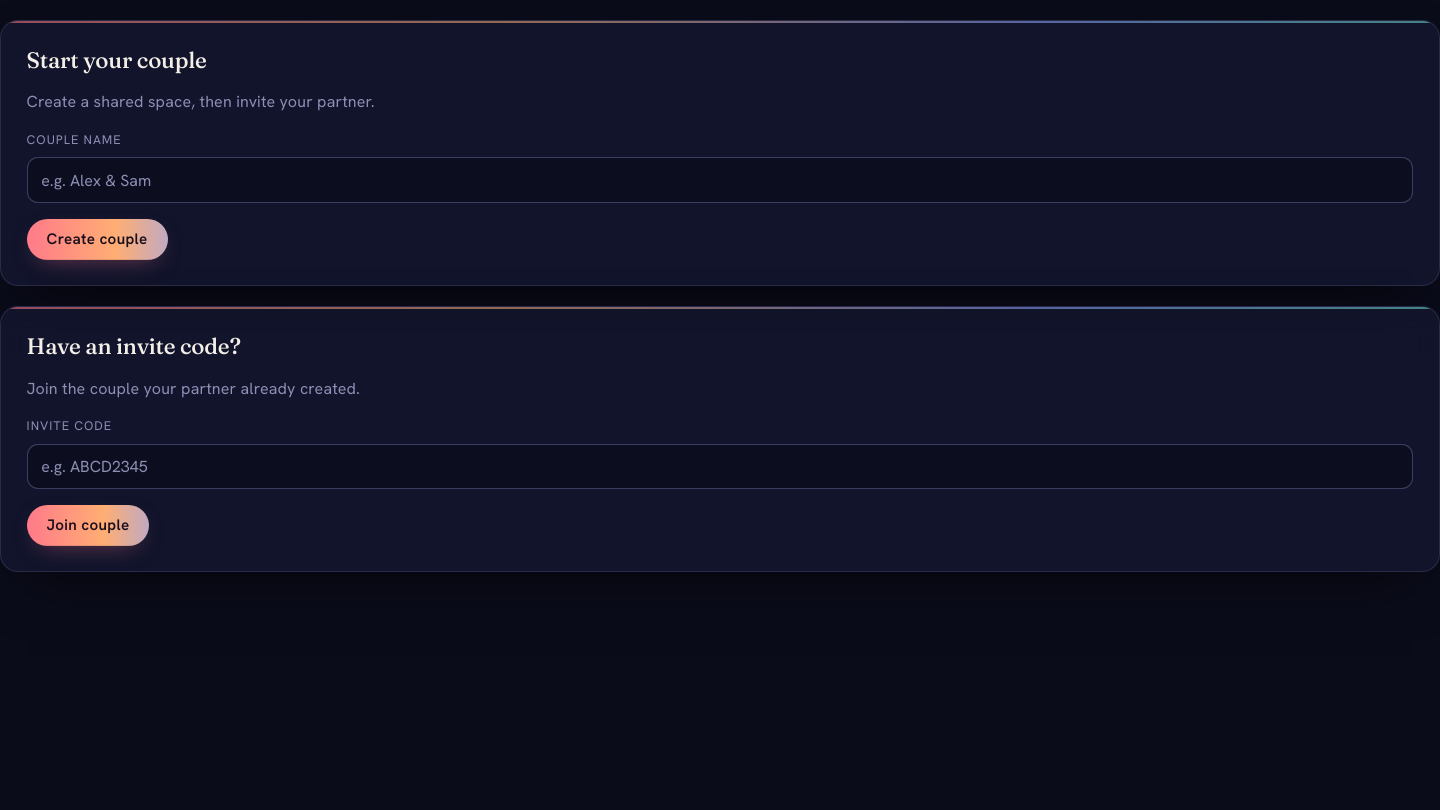
CoupleOnboarding › creates a couple and then shows it with an invite prompt
The width and height of the screenshot is (1440, 810).
# Onboarding choices appear once the (couple-less) profile loads.
Type "Alex & Sam" into the field labelled "Couple name" at (720, 180), box 27,157 -> 1413,203
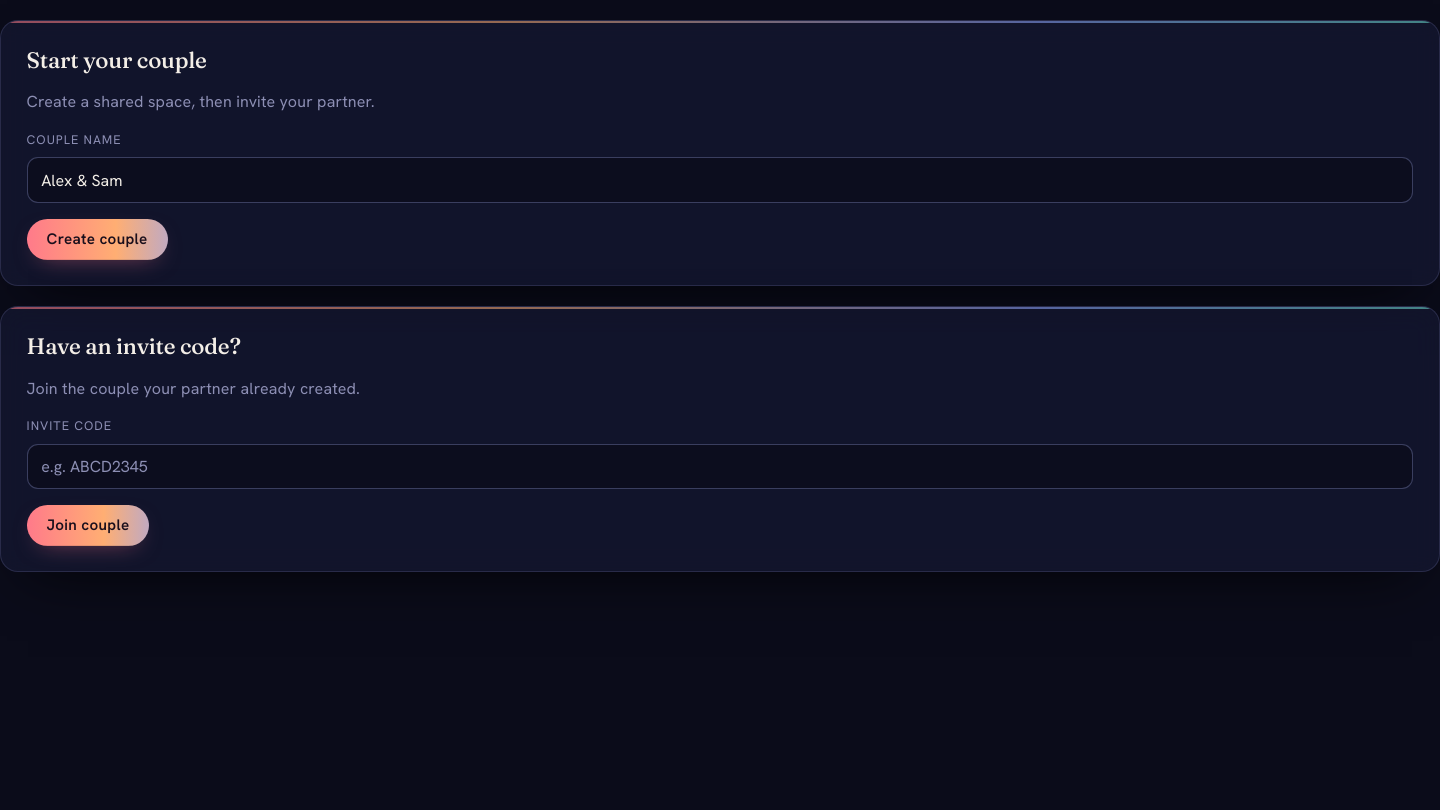
Click the button "Create couple" at (97, 239), box 27,219 -> 168,260
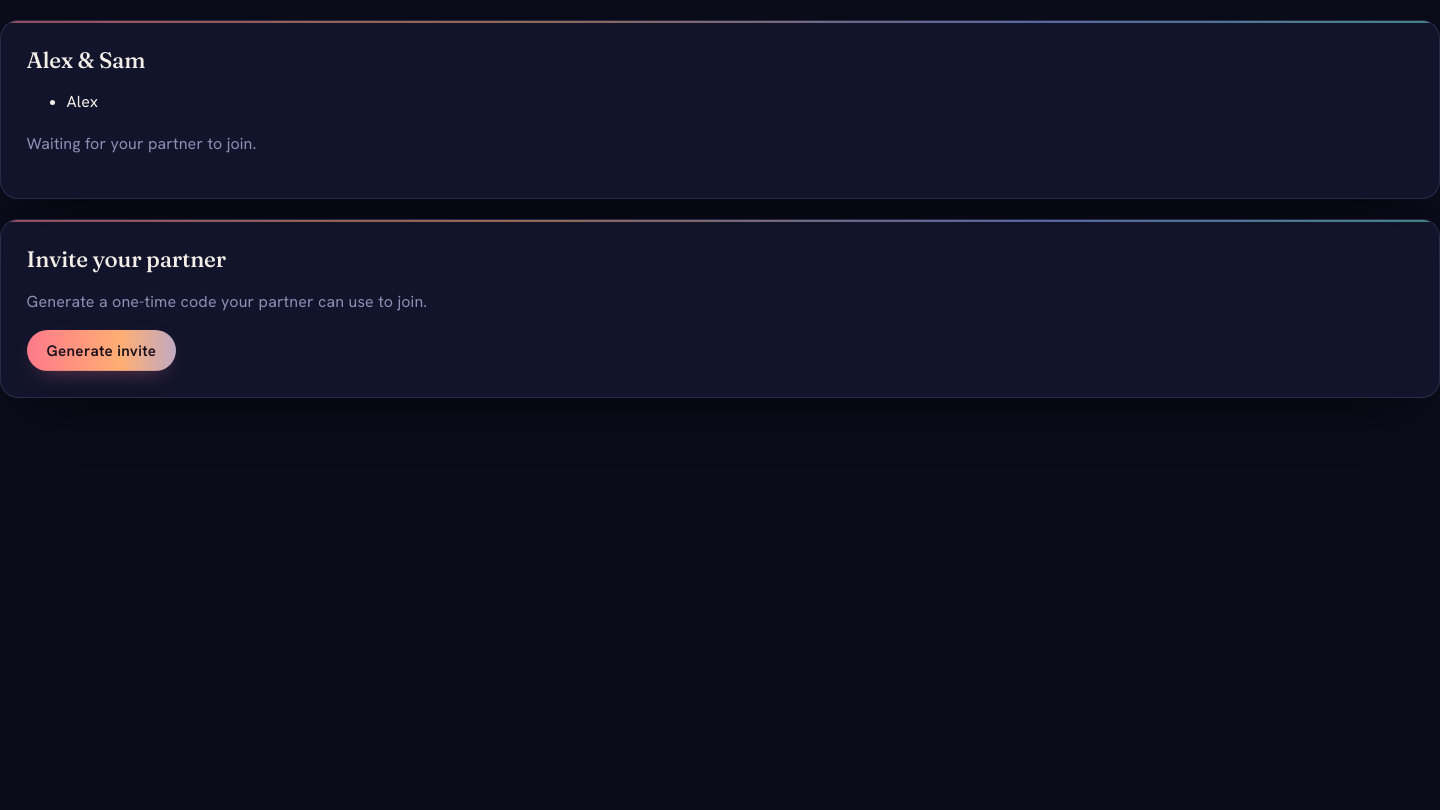
Expected: the heading "Alex & Sam" is shown, 27,46 -> 145,74
Expected: the button "Generate invite" is shown, 27,330 -> 176,371
